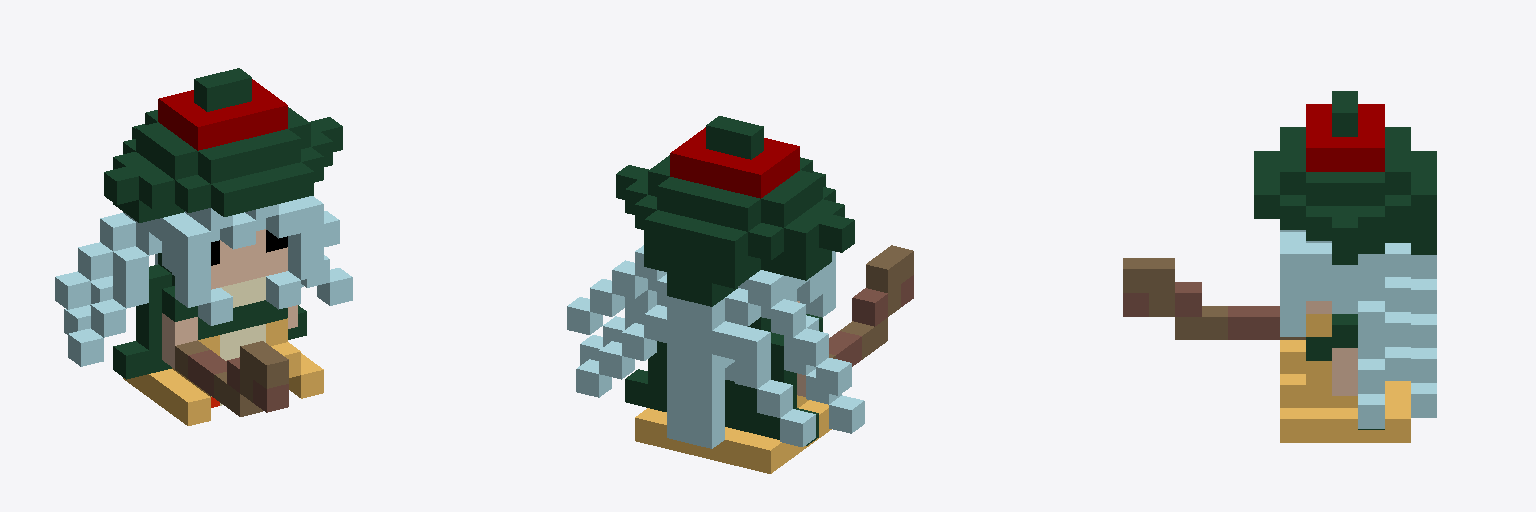
The picture shows the model from 3 angles: view 1: azimuth 30°, elevation 25°; view 2: azimuth 150°, elevation 25°; view 3: azimuth 270°, elevation 25°; orthographic projection.
Size of the model in its own units: 12 by 13 by 12.
1 materials, 1 textured.